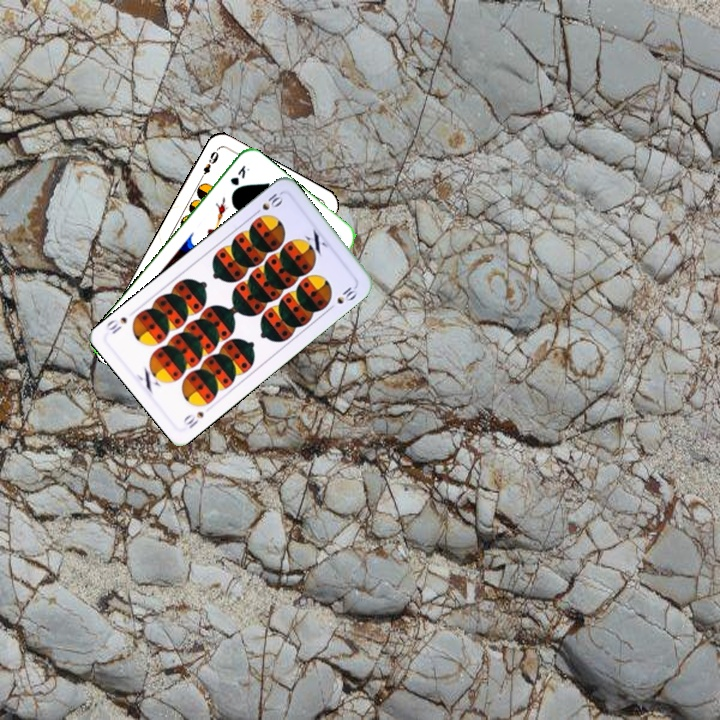E9: (196, 146, 221, 183)
GK: (226, 161, 252, 188)
S10: (249, 189, 286, 218), (179, 407, 207, 431)
